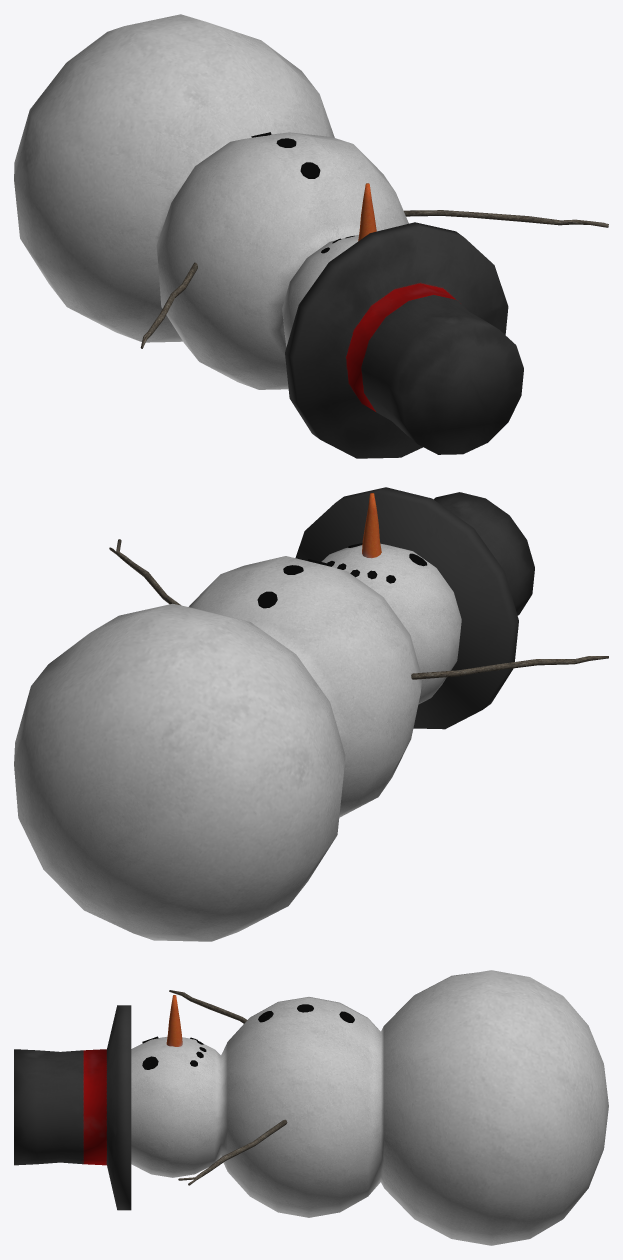
The model's file is Snowman.gltf.
3 renders of one model, top to bottom at view 1: azimuth 30°, elevation 25°; view 2: azimuth 150°, elevation 25°; view 3: azimuth 270°, elevation 25°, orthographic. The views are drawn at different scales.
Parts seen in each view (by area): view 1: Snowman; view 2: Snowman; view 3: Snowman.
Boxes of the visible parts, x1=… form: Snowman: x1=14, y1=14, x2=608, y2=458; Snowman: x1=14, y1=487, x2=608, y2=941; Snowman: x1=14, y1=970, x2=608, y2=1245.
Size of the model in its own units: 1.63 by 0.9891 by 2.13.
1 material, 1 textured.
